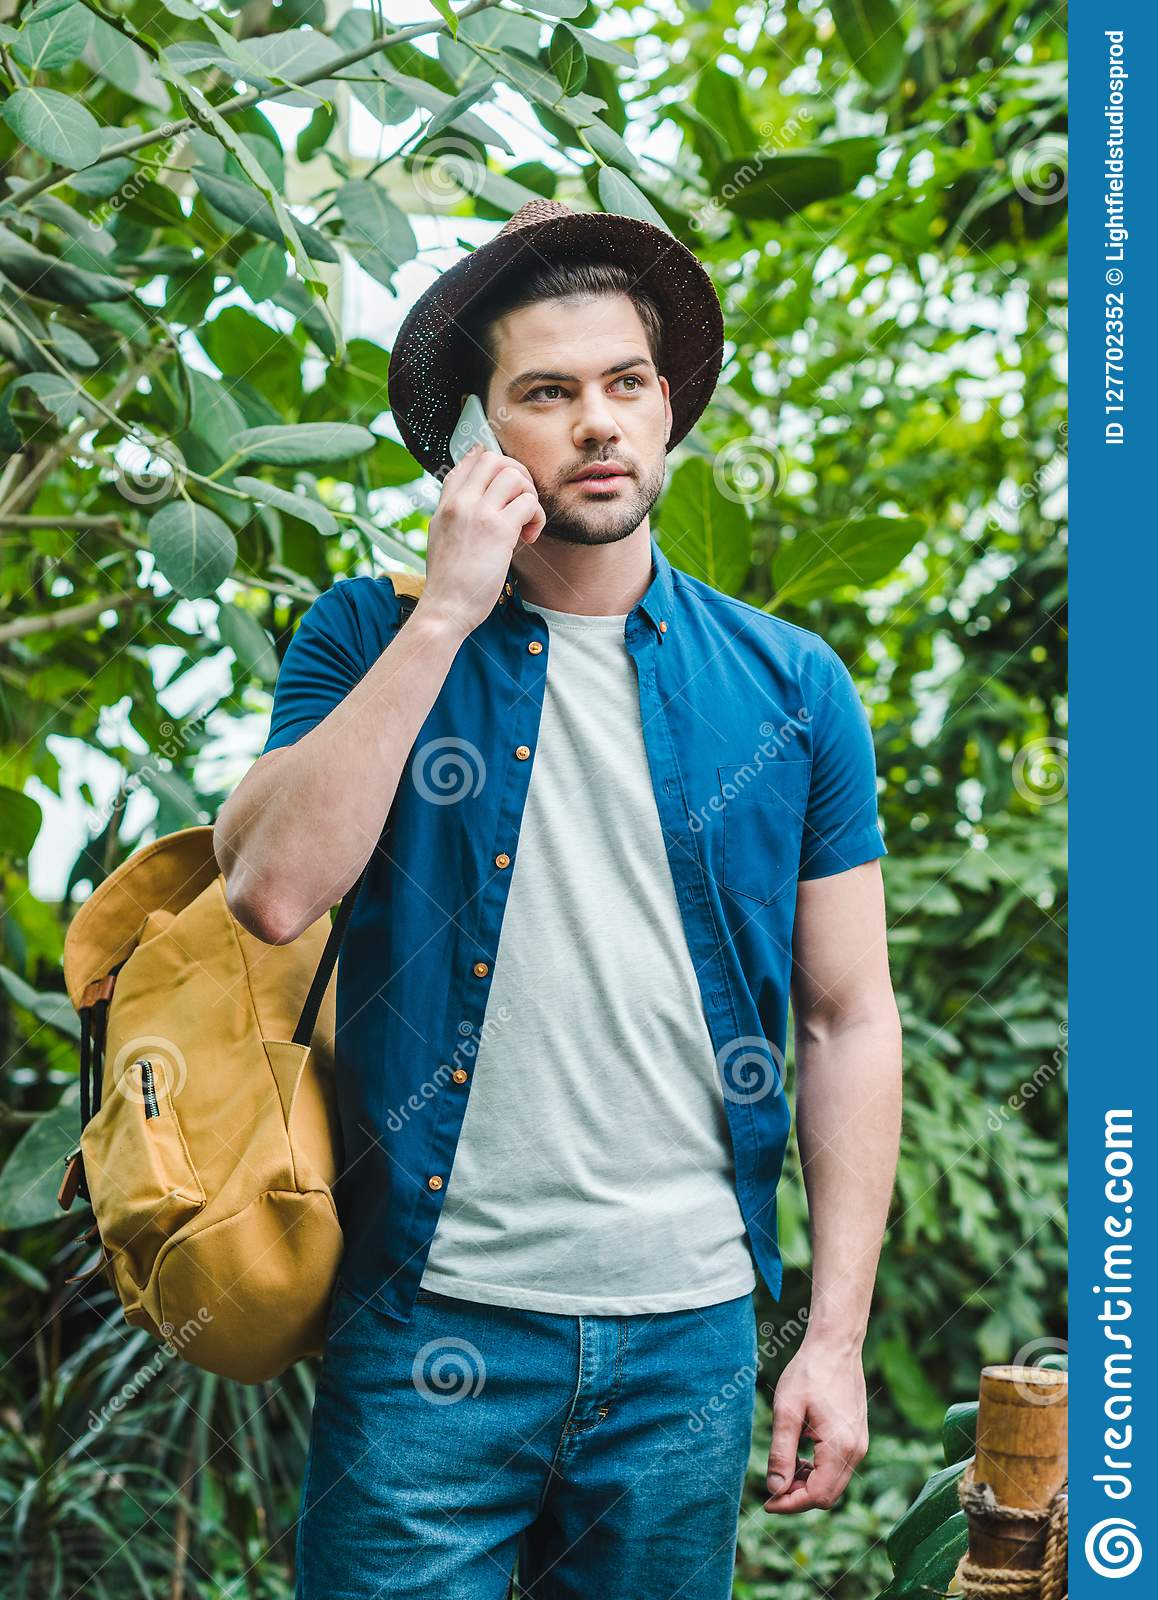phone: (449, 401, 522, 547)
talk: (422, 357, 671, 634)
